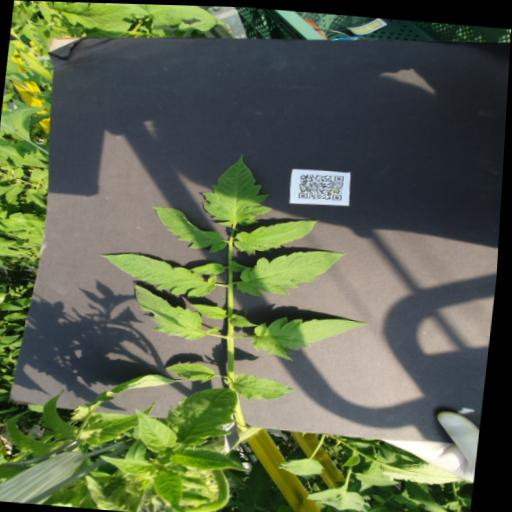Healthy: (132, 378, 264, 475), (236, 239, 350, 302), (251, 308, 377, 364), (99, 249, 222, 297), (200, 149, 276, 226), (128, 278, 214, 340), (82, 393, 161, 449), (147, 203, 233, 253), (233, 209, 320, 257), (49, 1, 133, 31), (42, 385, 87, 440), (230, 369, 301, 403), (156, 463, 198, 512), (310, 481, 378, 511), (0, 137, 53, 169), (101, 452, 165, 476), (165, 358, 220, 382), (282, 452, 330, 477), (0, 209, 47, 231), (0, 331, 26, 349), (0, 324, 12, 348), (7, 310, 30, 322), (1, 300, 27, 310), (0, 368, 3, 394), (0, 374, 3, 400)
